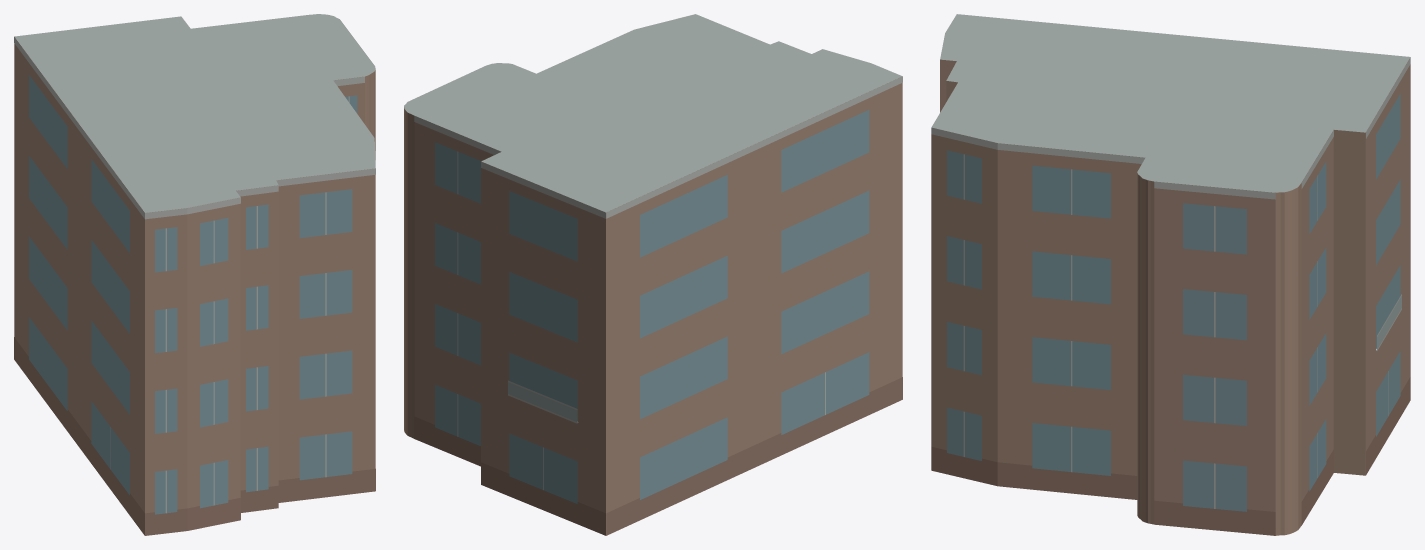
File: survey-upis-33014964.glb
3 views of the same model, side by side, from view 1: azimuth 30°, elevation 25°; view 2: azimuth 150°, elevation 25°; view 3: azimuth 270°, elevation 25° (orthographic). The views are drawn at different scales.
Visible parts, largest first — view 1: survey-upis-33014964.tmp; view 2: survey-upis-33014964.tmp; view 3: survey-upis-33014964.tmp.
Boxes of the visible parts, box(x1,y1,x2,y2) form: survey-upis-33014964.tmp: box(14, 14, 375, 535); survey-upis-33014964.tmp: box(404, 14, 902, 535); survey-upis-33014964.tmp: box(931, 14, 1410, 535).
Bounding box in the file's own units: 13.87 × 12.4 × 15.71.
